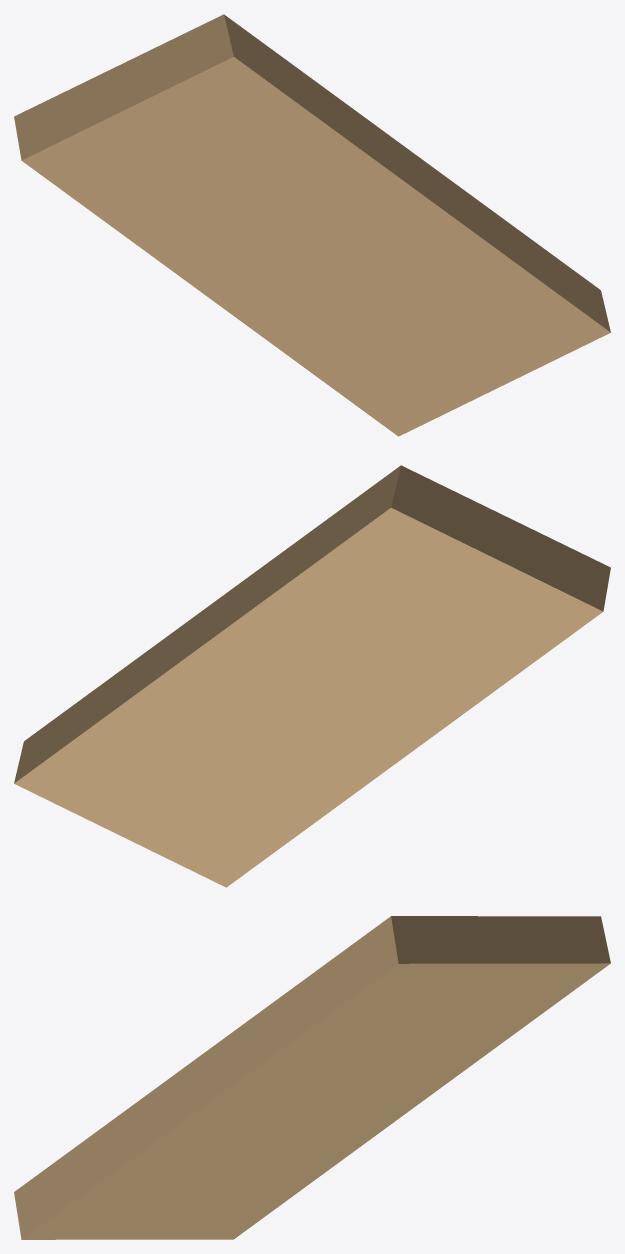
The picture shows the model from 3 angles, top to bottom: view 1: azimuth 30°, elevation 25°; view 2: azimuth 150°, elevation 25°; view 3: azimuth 330°, elevation 25°; orthographic projection.
Visible parts, largest first — view 1: 0_1_2_0_1_1_0_0_1_0; view 2: 0_1_2_0_1_1_0_0_1_0; view 3: 0_1_2_0_1_1_0_0_1_0.
Boxes of the visible parts, bbox=[...] form: 0_1_2_0_1_1_0_0_1_0: bbox=[14, 14, 610, 436]; 0_1_2_0_1_1_0_0_1_0: bbox=[14, 465, 610, 887]; 0_1_2_0_1_1_0_0_1_0: bbox=[14, 916, 610, 1239].
Size of the model in its own units: 7.07 by 2.98 by 21.
